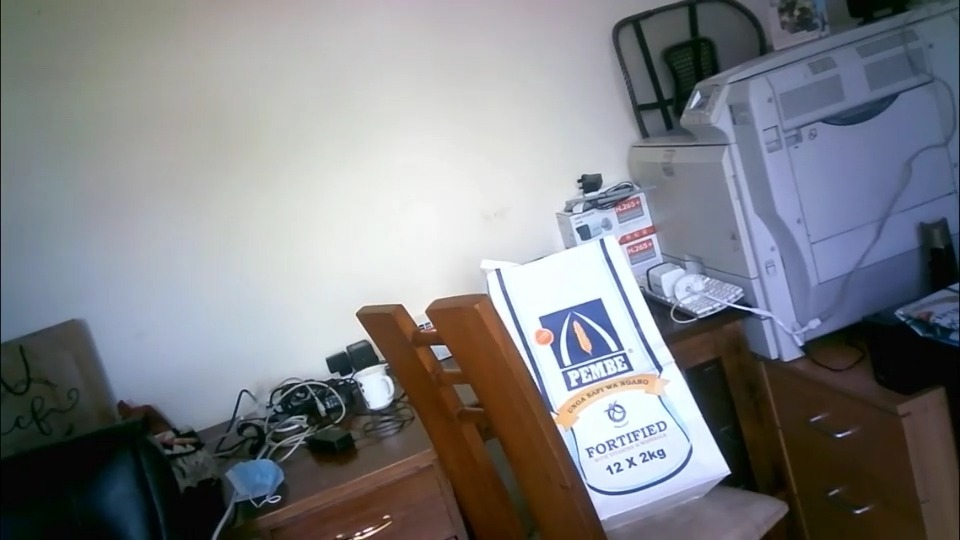wheat_flour_blue_label: (491, 233, 731, 527)
